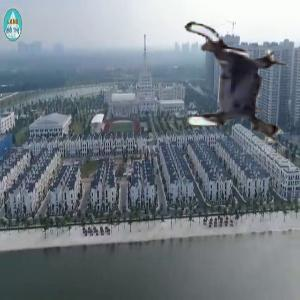drone: (169, 19, 300, 150)
